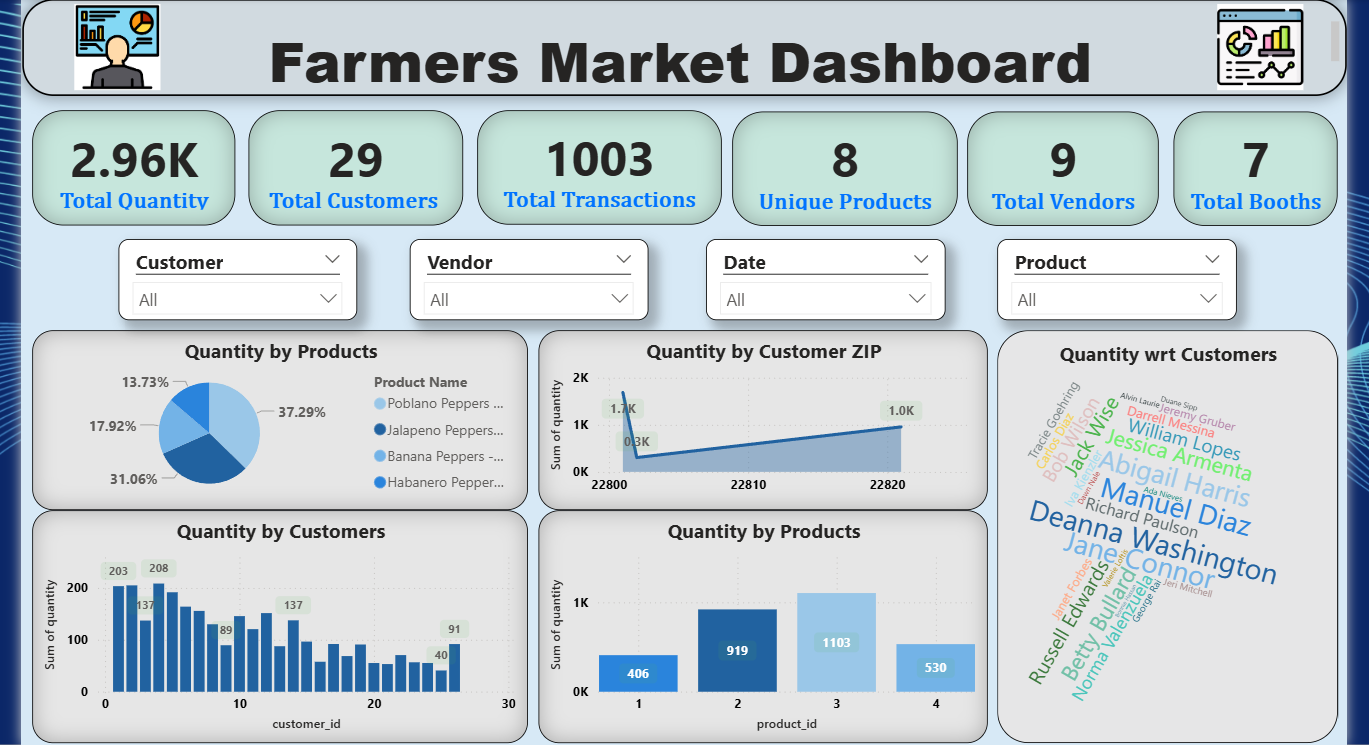

The page's visual inventory and layout, read from the dashboard file:
{"tool":"powerbi","page":{"name":"Quantity Wise Analysis","canvas":[1280,720],"ordinal":1},"visuals":[{"type":"columnChart","title":"Quantity by Customers ","fields":{"Y":["customer_purchases.quantity"],"Category":["customer_purchases.customer_id"]},"box":[11.2,493.8,478.8,225],"z":0},{"type":"columnChart","title":"Quantity by Products ","fields":{"Y":["customer_purchases.quantity"],"Category":["product.product_id"],"Series":["product.product_name"]},"box":[500,493.8,433.8,225],"z":1000},{"type":"pieChart","title":"Quantity by Products","fields":{"Category":["product.product_name"],"Y":["customer_purchases.quantity"]},"box":[11.2,320,478.8,173.8],"z":2000},{"type":"textbox","box":[1.2,0,1278.8,93.8],"z":3000},{"type":"image","box":[44,0,99,92.9],"z":4000},{"type":"image","box":[1147,0,97.8,92.9],"z":5000},{"type":"card","fields":{"Values":["customer_purchases.quantity"]},"box":[11.2,107.5,196.2,111.2],"z":6000},{"type":"card","fields":{"Values":["customer_purchases.customer_id"]},"box":[220,107.1,207.1,111.4],"z":7000},{"type":"card","fields":{"Values":["customer_purchases.customer_id"]},"box":[440,107.1,235.7,110],"z":8000},{"type":"card","fields":{"Values":["vendor.vendor_id"]},"box":[913.8,108.8,185,110],"z":9000},{"type":"card","fields":{"Values":["vendor_booth_assignments.booth_number"]},"box":[1112.5,108.8,158.8,110],"z":10000},{"type":"card","fields":{"Values":["vendor_inventory.product_id"]},"box":[686.2,108.8,217.5,110],"z":11000},{"type":"slicer","fields":{"Values":["customer_purchases.vendor_id"]},"box":[375,231.2,230,78.8],"z":12000},{"type":"slicer","fields":{"Values":["customer_purchases.product_id"]},"box":[942.5,231.2,231.2,78.8],"z":13000},{"type":"slicer","fields":{"Values":["customer_purchases.market_date"]},"box":[661.2,231.2,231.2,78.8],"z":14000},{"type":"slicer","fields":{"Values":["customer_purchases.customer_id"]},"box":[93.8,231.2,230,78.8],"z":15000},{"type":"WordCloud1447959067750","title":"Quantity wrt Customers","fields":{"Values":["customer_purchases.quantity"],"Category":["customer.customer_Full_Name"]},"box":[942.5,320,328.8,398.8],"z":16000},{"type":"areaChart","title":"Quantity by Customer ZIP ","fields":{"Category":["customer.customer_zip"],"Y":["customer_purchases.quantity"]},"box":[500,320,433.8,173.8],"z":17000}]}

Visuals, with their boxes on the page's 1280x720 design canvas (x1, y1, x2, y2). These are canvas units, not pixel positions in the 1369x745 screenshot, which may show the page scaled, cropped or inside an application window:
"Quantity by Customers " columnChart: (11,494,490,719)
"Quantity by Products " columnChart: (500,494,934,719)
"Quantity by Products" pieChart: (11,320,490,494)
textbox: (1,0,1280,94)
image: (44,0,143,93)
image: (1147,0,1245,93)
card - customer_purchases.quantity: (11,108,207,219)
card - customer_purchases.customer_id: (220,107,427,218)
card - customer_purchases.customer_id: (440,107,676,217)
card - vendor.vendor_id: (914,109,1099,219)
card - vendor_booth_assignments.booth_number: (1112,109,1271,219)
card - vendor_inventory.product_id: (686,109,904,219)
slicer - customer_purchases.vendor_id: (375,231,605,310)
slicer - customer_purchases.product_id: (942,231,1174,310)
slicer - customer_purchases.market_date: (661,231,892,310)
slicer - customer_purchases.customer_id: (94,231,324,310)
"Quantity wrt Customers" WordCloud1447959067750: (942,320,1271,719)
"Quantity by Customer ZIP " areaChart: (500,320,934,494)
